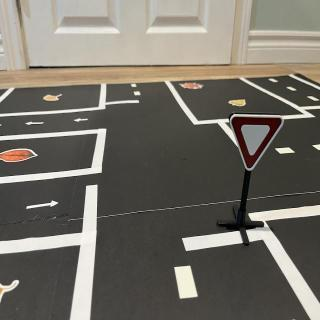road_oneway: (27, 197, 64, 214), (24, 119, 48, 129), (71, 116, 93, 126)
sign_yield: (231, 115, 285, 173)
